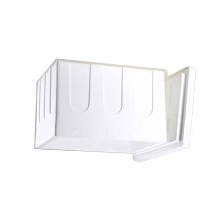foam_box: (27, 52, 202, 168)
